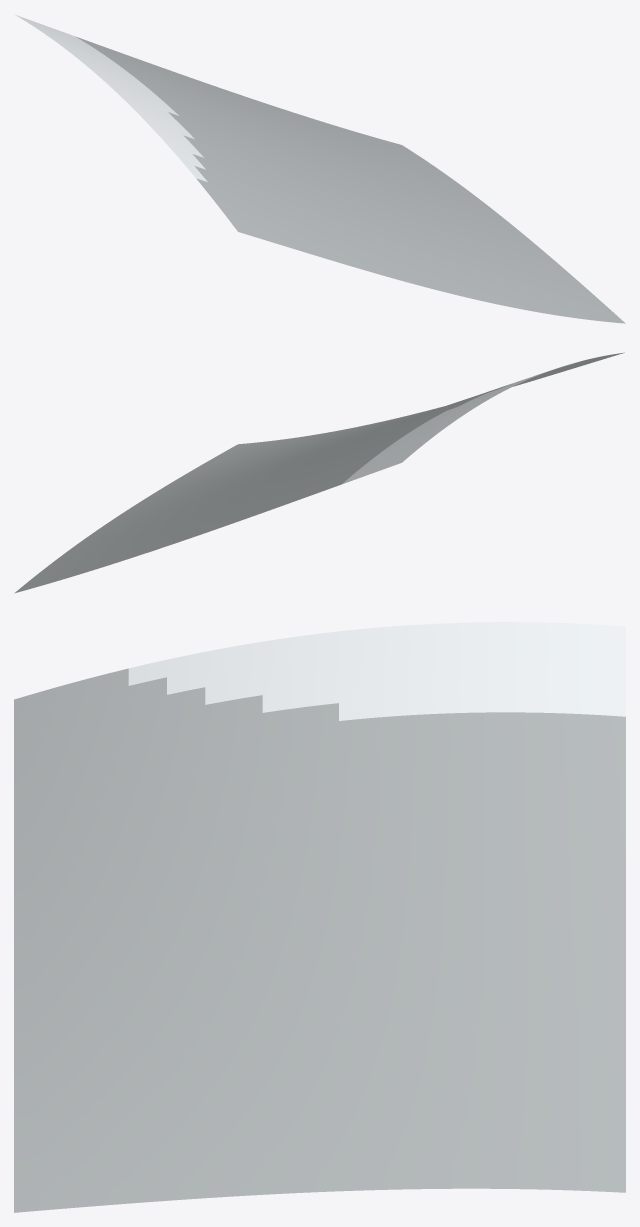
Rendered from alpine-10-7.glb.
3 renders of one model, top to bottom at view 1: azimuth 30°, elevation 25°; view 2: azimuth 150°, elevation 25°; view 3: azimuth 270°, elevation 25°, orthographic. The views are drawn at different scales.
Visible parts, largest first — view 1: alpine-10-7; view 2: alpine-10-7; view 3: alpine-10-7.
Part boxes in pixels (<box>): alpine-10-7: <box>15,15,625,323</box>; alpine-10-7: <box>14,352,624,593</box>; alpine-10-7: <box>14,622,625,1212</box>.
Bounding box in the file's own units: 256 × 153 × 256.
2 materials, 2 textured.
